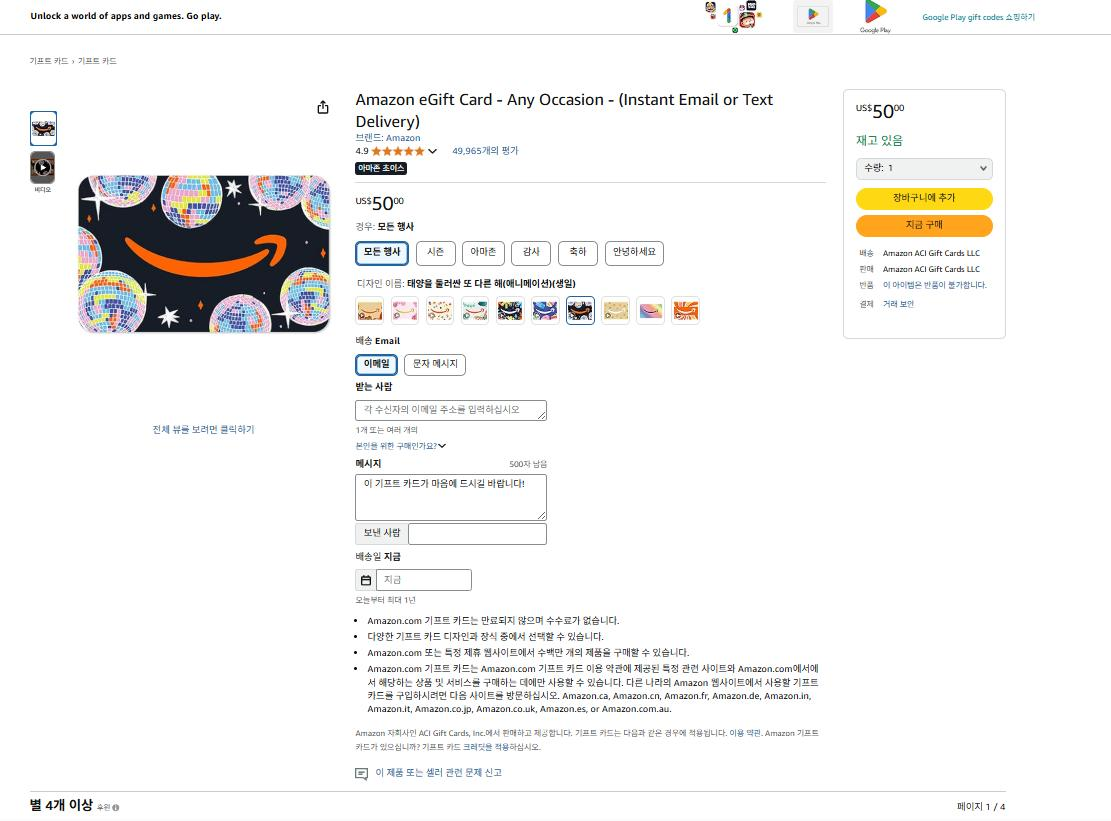button: (352, 763, 519, 786), (148, 411, 264, 444), (856, 214, 996, 239), (918, 7, 1049, 33), (856, 158, 997, 181), (856, 188, 991, 212), (353, 436, 458, 456), (603, 241, 669, 271), (883, 277, 990, 294), (403, 353, 470, 380), (352, 239, 411, 268), (27, 150, 61, 196), (27, 107, 61, 151), (352, 351, 401, 379), (509, 241, 554, 271), (556, 238, 601, 268), (532, 292, 566, 331), (462, 241, 509, 269), (420, 296, 457, 329), (567, 293, 598, 332), (353, 291, 386, 326), (391, 291, 419, 332), (351, 131, 426, 146), (494, 296, 528, 329), (450, 144, 524, 159), (418, 240, 457, 268), (458, 296, 492, 326), (601, 297, 633, 327), (674, 296, 702, 328), (639, 296, 666, 329), (883, 294, 926, 312), (464, 742, 510, 757), (312, 96, 336, 121), (429, 147, 438, 154)
input_field: (352, 470, 552, 521), (353, 523, 553, 553), (349, 396, 556, 424), (349, 564, 477, 593)
popup: (1, 0, 920, 36)
